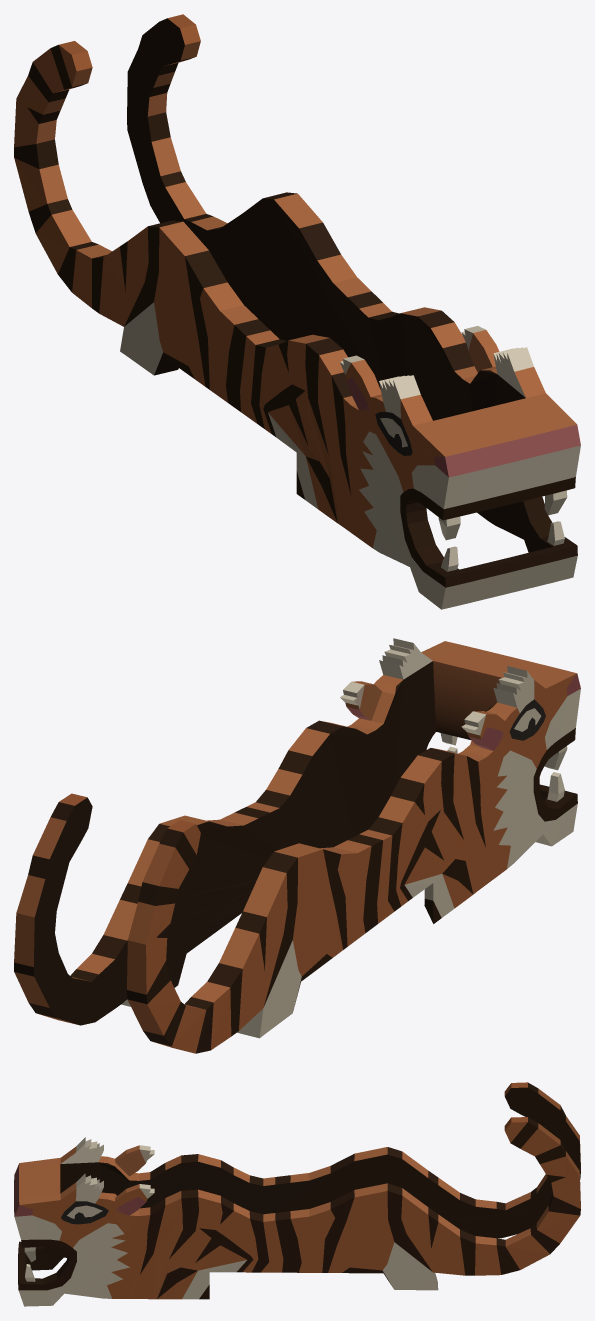
Rendered from repeatingCrossbowTigerHandle.glb.
3 renders of one model, top to bottom at view 1: azimuth 30°, elevation 25°; view 2: azimuth 150°, elevation 25°; view 3: azimuth 270°, elevation 25°, orthographic. The views are drawn at different scales.
Parts seen in each view (by area): view 1: repeatingCrossbowTigerHandle; view 2: repeatingCrossbowTigerHandle; view 3: repeatingCrossbowTigerHandle.
Part boxes in pixels (x1=…): repeatingCrossbowTigerHandle: x1=14, y1=14, x2=580, y2=609; repeatingCrossbowTigerHandle: x1=14, y1=638, x2=580, y2=1053; repeatingCrossbowTigerHandle: x1=14, y1=1082, x2=580, y2=1306.
Size of the model in its own units: 0.0618 by 0.1189 by 0.3334.
